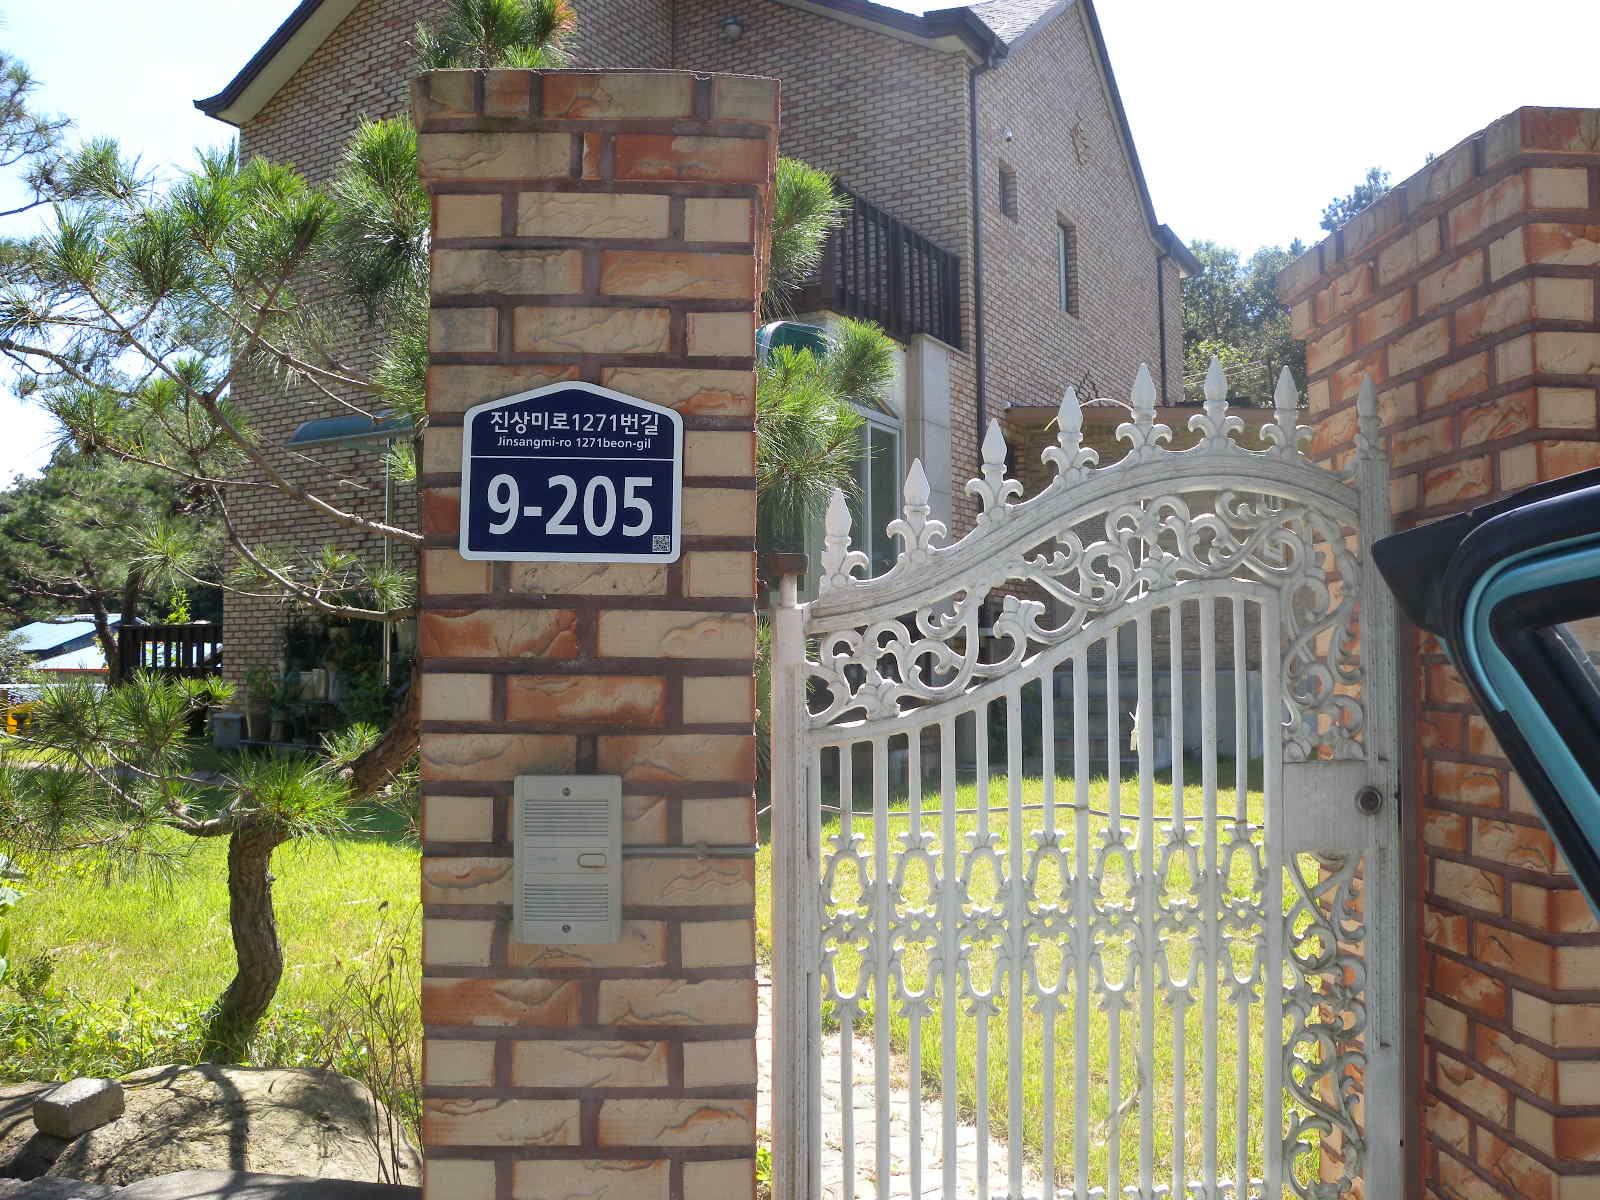building_license_plate1: (460, 378, 688, 562)
